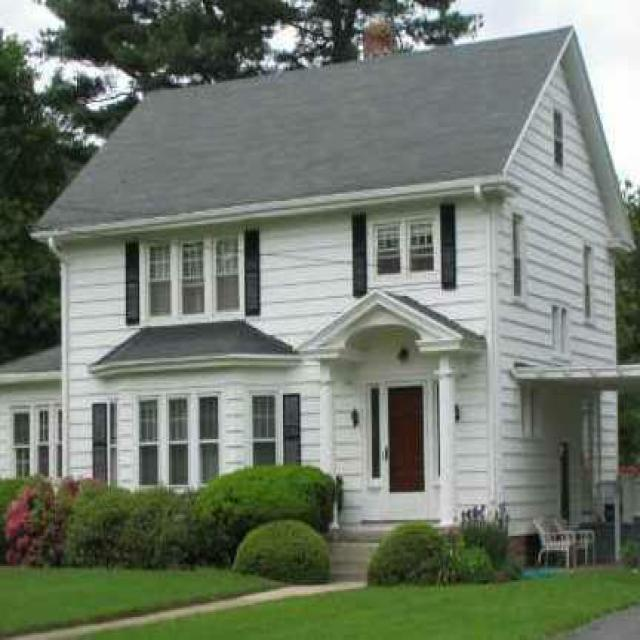other: (370, 351, 441, 512), (5, 472, 80, 572)
